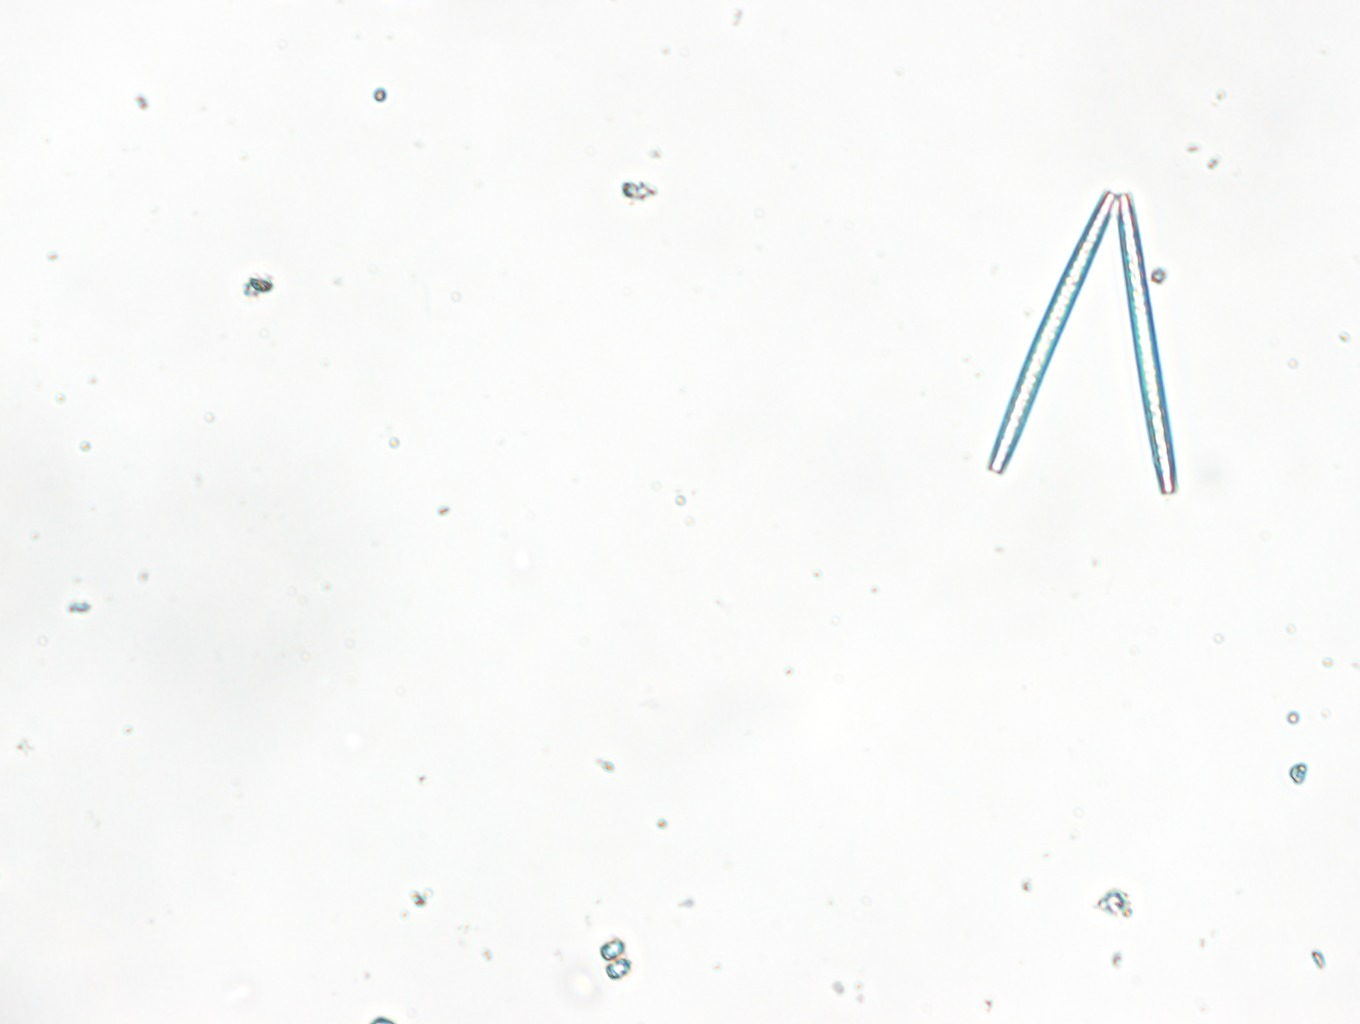thalassionema nitzschioides: (990, 189, 1177, 493)
